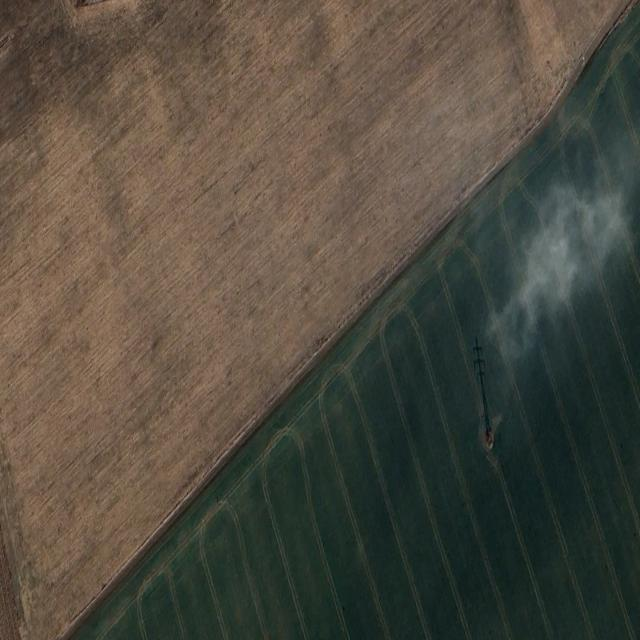bare-soil: (0, 0, 627, 639), (0, 523, 21, 639)
building: (472, 339, 501, 453)
grass: (65, 0, 640, 639)
